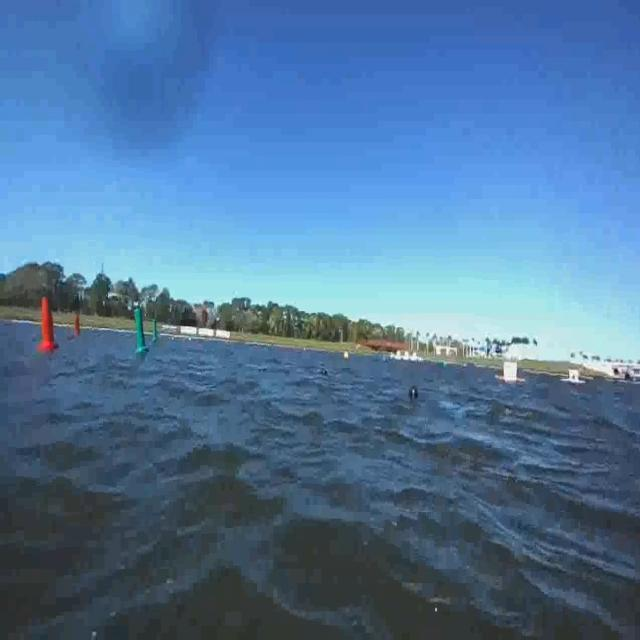black-buoy: (410, 388, 418, 400)
green-column-buoy: (135, 311, 150, 357), (152, 318, 158, 342)
red-column-buoy: (39, 298, 57, 352), (74, 314, 82, 337)
yellow-buoy: (344, 350, 351, 361)
